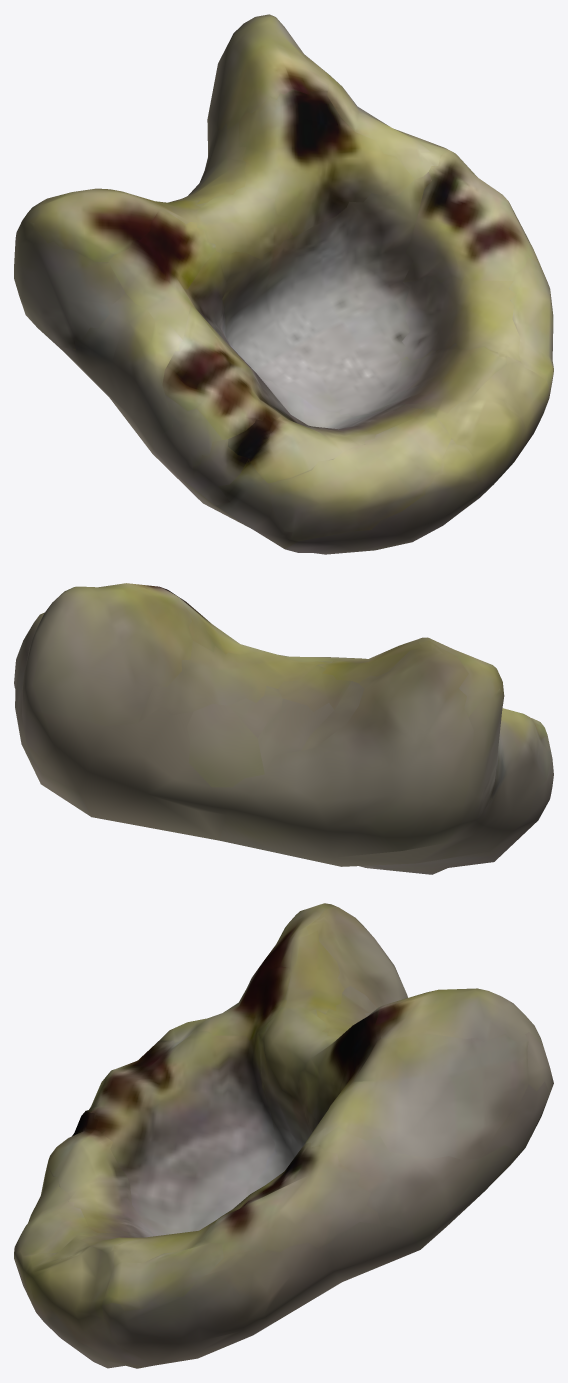
Rendered from hall.glb.
3 renders of one model, top to bottom at view 1: azimuth 30°, elevation 25°; view 2: azimuth 150°, elevation 25°; view 3: azimuth 270°, elevation 25°, orthographic. The views are drawn at different scales.
Size of the model in its own units: 0.2182 by 0.1669 by 0.2123.
1 material, 1 textured.
